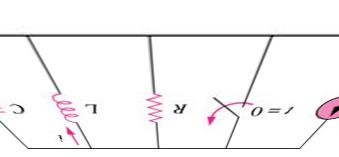inductor: (43, 81, 81, 124)
